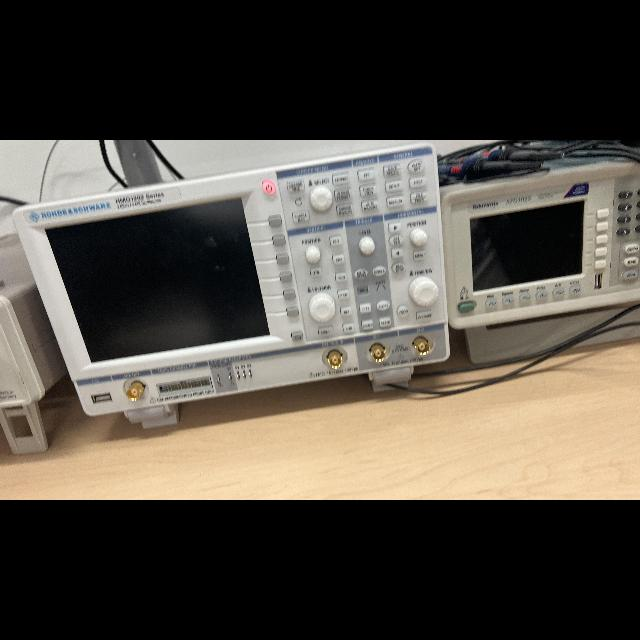Digital-Oscilloscope: (13, 144, 449, 427)
